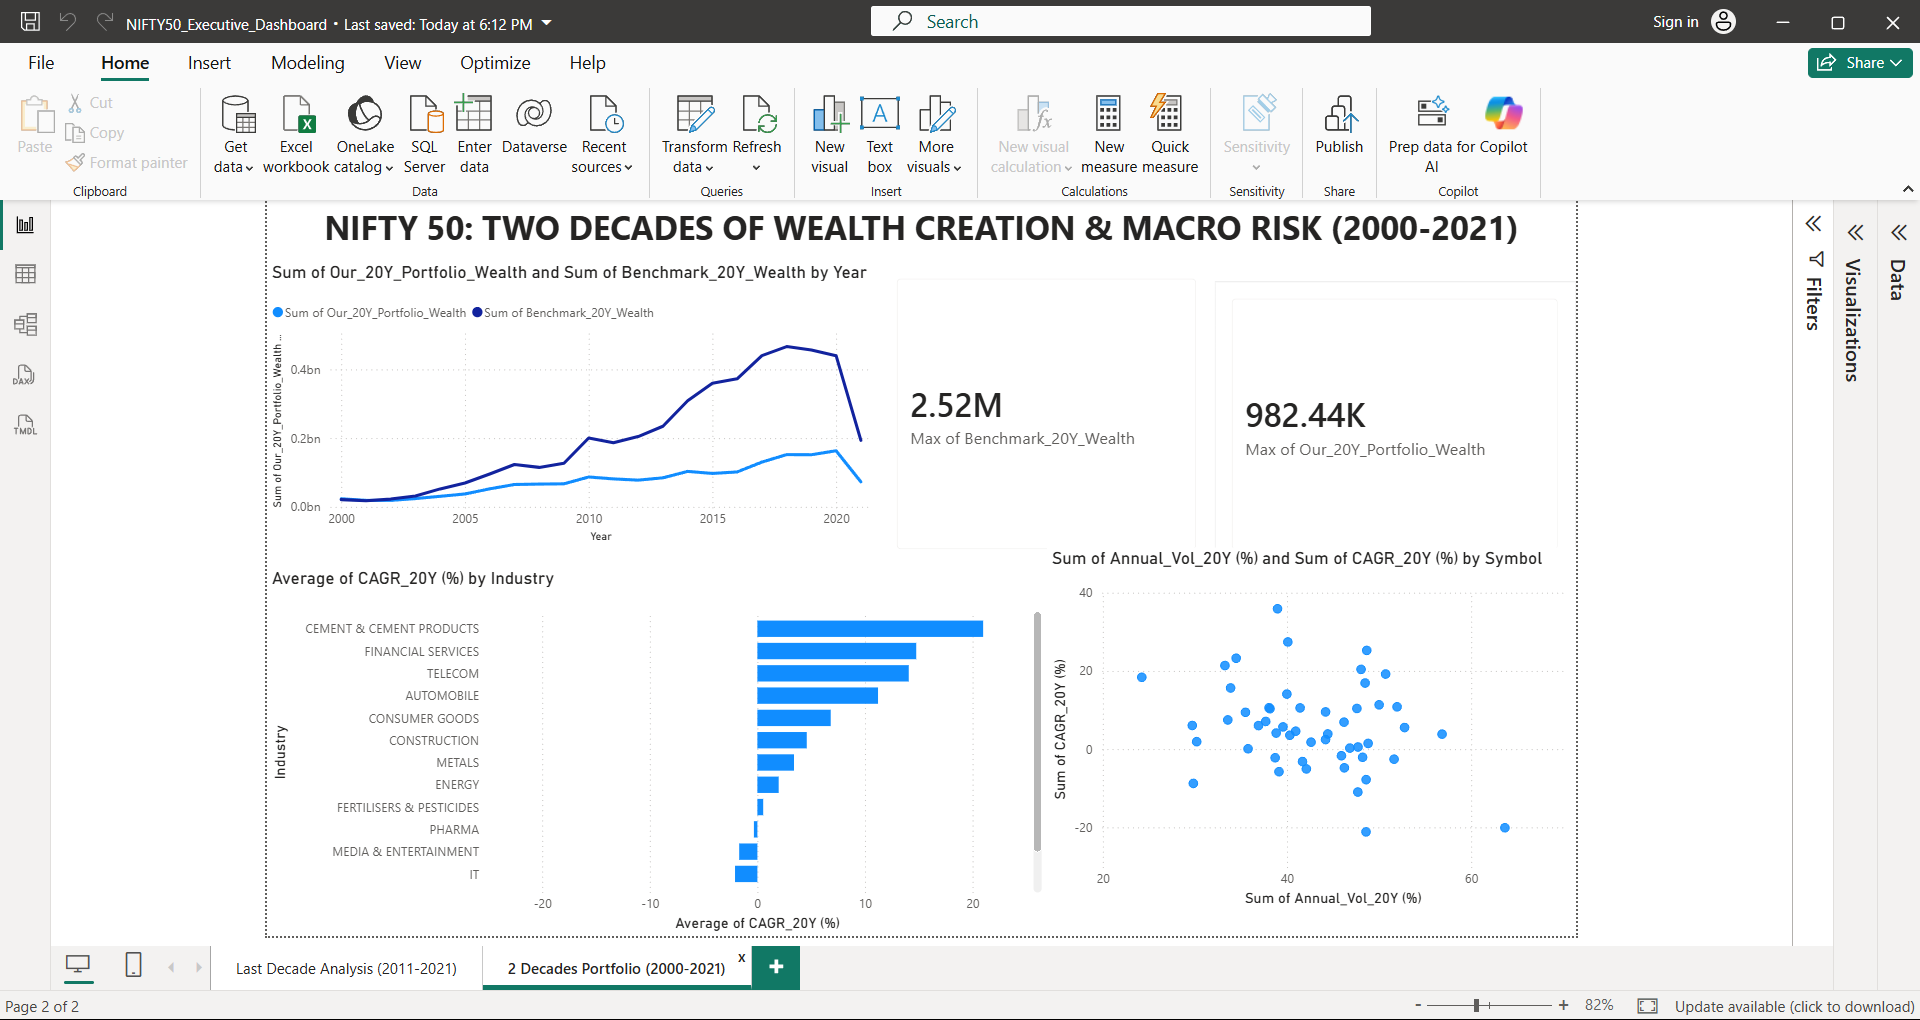

Layout of this report page (visuals, bound fields, positions):
{"tool":"powerbi","page":{"name":"2 Decades Portfolio (2000-2021)","canvas":[1280,720],"ordinal":1},"visuals":[{"type":"lineChart","fields":{"Category":["PowerBI_2Decades_Wealth.Date.Variation.Date Hierarchy.Year","PowerBI_2Decades_Wealth.Date.Variation.Date Hierarchy.Quarter","PowerBI_2Decades_Wealth.Date.Variation.Date Hierarchy.Month","PowerBI_2Decades_Wealth.Date.Variation.Date Hierarchy.Day"],"Y":["Sum(PowerBI_2Decades_Wealth.Our_20Y_Portfolio_Wealth)","Sum(PowerBI_2Decades_Wealth.Benchmark_20Y_Wealth)"]},"box":[0,59.9,599.2,280],"z":0},{"type":"textbox","box":[0,0,1280.3,59.9],"z":1},{"type":"cardVisual","fields":{"Data":["Max(PowerBI_2Decades_Wealth.Our_20Y_Portfolio_Wealth)"]},"box":[926.9,79.5,353.4,280],"z":2},{"type":"cardVisual","fields":{"Data":["Max(PowerBI_2Decades_Wealth.Benchmark_20Y_Wealth)"]},"box":[599.2,59.9,327.7,299.6],"z":3},{"type":"clusteredBarChart","fields":{"Category":["PowerBI_2Decades_Metrics.Industry"],"Y":["Avg(PowerBI_2Decades_Metrics.CAGR_20Y (%))"]},"box":[0,359.5,763,360.7],"z":4},{"type":"scatterChart","fields":{"Category":["PowerBI_2Decades_Metrics.Symbol"],"X":["Sum(PowerBI_2Decades_Metrics.Annual_Vol_20Y (%))"],"Y":["Sum(PowerBI_2Decades_Metrics.CAGR_20Y (%))"]},"box":[763,339.9,517.3,355.8],"z":5}]}

Visuals, with their boxes on the page's 1280x720 design canvas (x1, y1, x2, y2). These are canvas units, not pixel positions in the 1920x1020 screenshot, which may show the page scaled, cropped or inside an application window:
lineChart - PowerBI_2Decades_Wealth.Date.Variation.Date Hierarchy.Year x PowerBI_2Decades_Wealth.Date.Variation.Date Hierarchy.Quarter: <box>0,60,599,340</box>
textbox: <box>0,0,1280,60</box>
cardVisual - Max(PowerBI_2Decades_Wealth.Our_20Y_Portfolio_Wealth): <box>927,80,1280,360</box>
cardVisual - Max(PowerBI_2Decades_Wealth.Benchmark_20Y_Wealth): <box>599,60,927,360</box>
clusteredBarChart - PowerBI_2Decades_Metrics.Industry x Avg(PowerBI_2Decades_Metrics.CAGR_20Y (%)): <box>0,360,763,720</box>
scatterChart - PowerBI_2Decades_Metrics.Symbol x Sum(PowerBI_2Decades_Metrics.Annual_Vol_20Y (%)): <box>763,340,1280,696</box>
